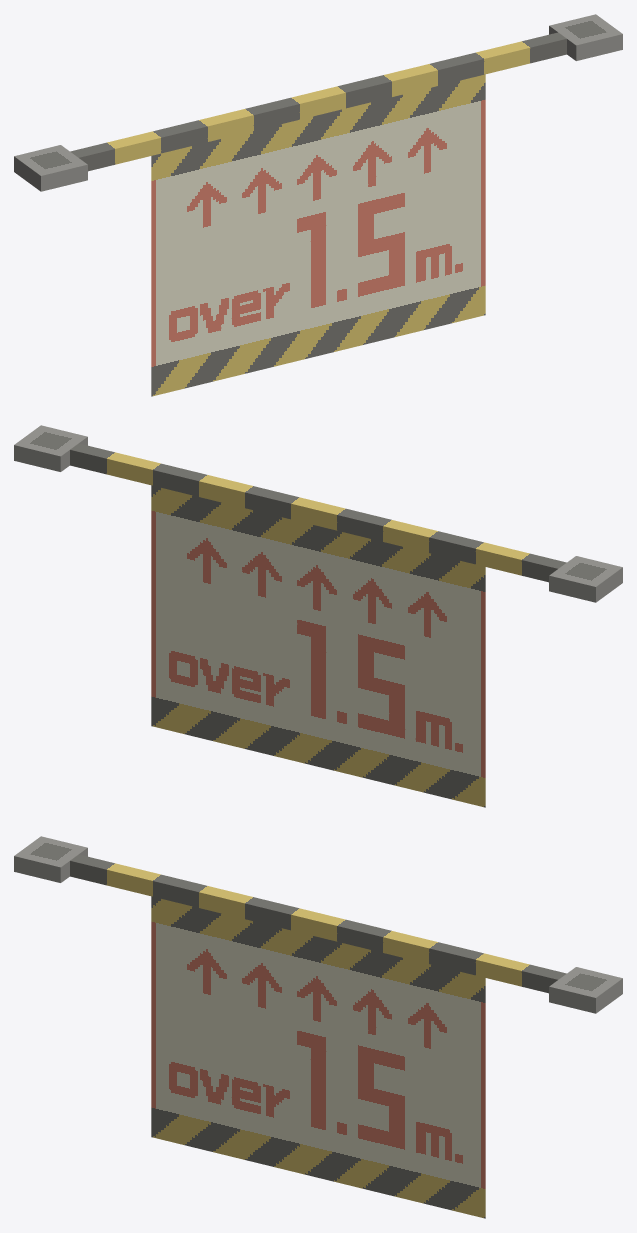
Rendered from 05b7_Over_1.5m_Sign.glb.
3 renders of one model, top to bottom at view 1: azimuth 30°, elevation 25°; view 2: azimuth 150°, elevation 25°; view 3: azimuth 330°, elevation 25°, orthographic.
Parts seen in each view (by area): view 1: part_0; view 2: part_0; view 3: part_0.
Boxes of the visible parts, x1,y1,x2,y2 form: part_0: [14, 14, 622, 396]; part_0: [14, 425, 622, 807]; part_0: [14, 836, 622, 1218].
Bounding box in the file's own units: 1.3 × 0.5588 × 0.105.
Materials: 1 (1 with a texture image).
